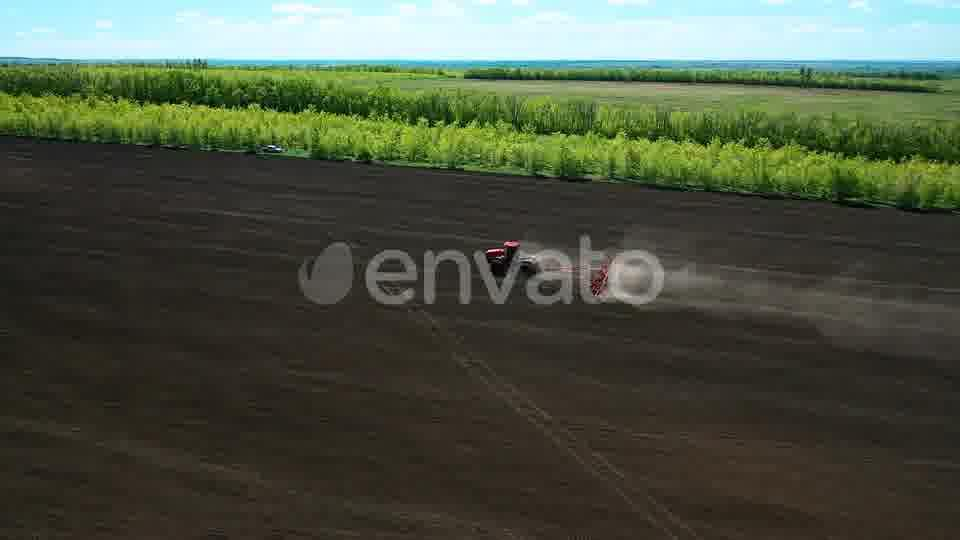tractor: (481, 241, 545, 276)
